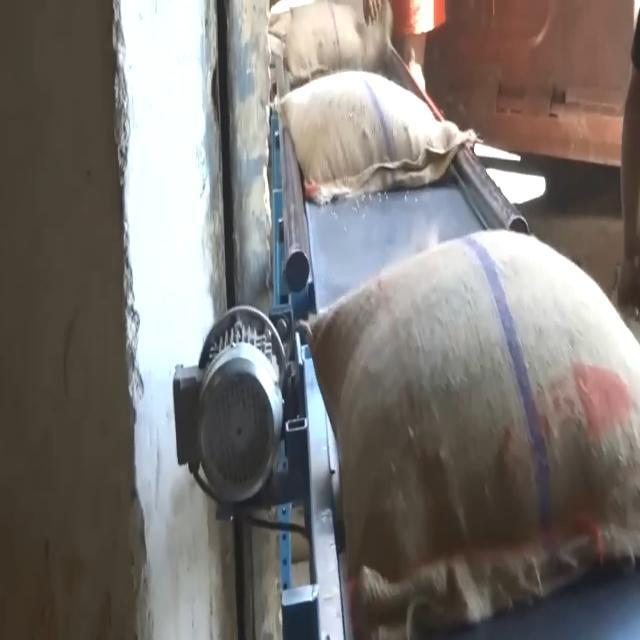gunny_bag: (295, 217, 640, 640), (280, 75, 478, 212)
